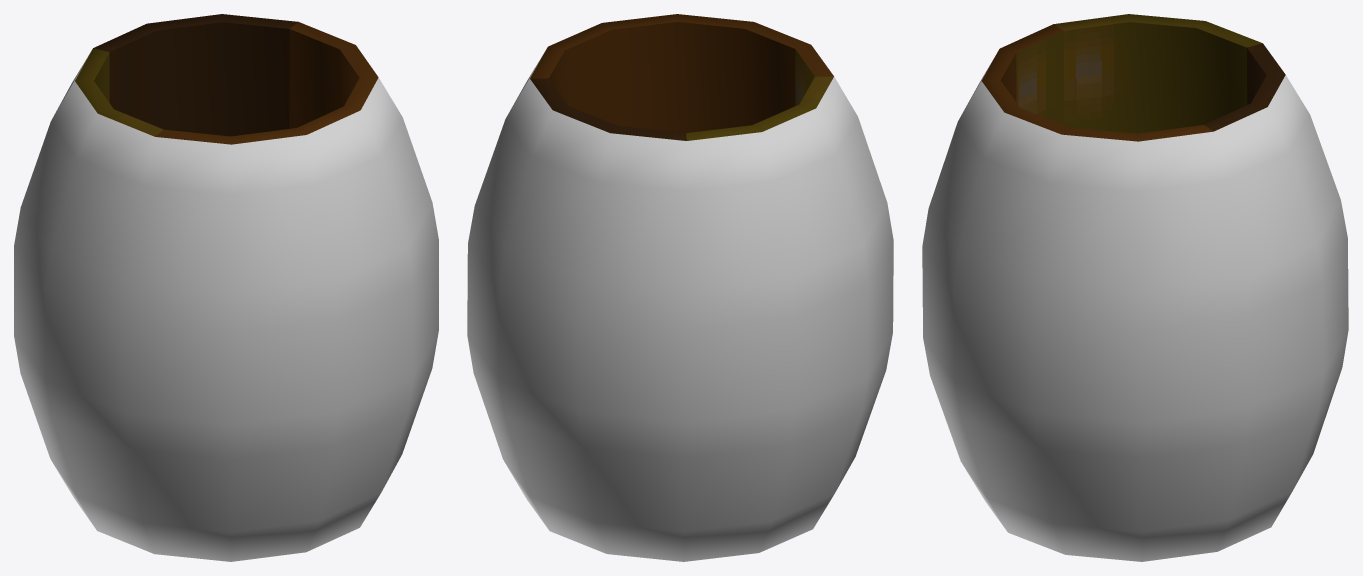
3 views of the same model, side by side, from view 1: azimuth 30°, elevation 25°; view 2: azimuth 150°, elevation 25°; view 3: azimuth 270°, elevation 25° (orthographic).
Visible parts, largest first — view 1: mesh00142, mesh00162, mesh00132, mesh0011, mesh00152; view 2: mesh00142, mesh00162, mesh00132, mesh0011, mesh00152; view 3: mesh00142, mesh0011, mesh00162, mesh00152, mesh00132.
Part boxes in pixels (box(x1,y1,x2,y2)): mesh00142: box(126, 117, 438, 532); mesh00162: box(53, 52, 438, 561); mesh00132: box(75, 14, 378, 144); mesh0011: box(14, 122, 143, 522); mesh00152: box(14, 81, 154, 553); mesh00142: box(467, 119, 792, 531); mesh00162: box(467, 79, 792, 561); mesh00132: box(530, 14, 833, 140); mesh0011: box(772, 117, 893, 520); mesh00152: box(508, 50, 893, 552); mesh00142: box(922, 115, 1348, 523); mesh0011: box(1034, 180, 1247, 531); mesh00162: box(922, 55, 1348, 554); mesh00152: box(1034, 131, 1247, 561); mesh00132: box(981, 14, 1285, 141).
Size of the model in its own units: 1439 by 1574 by 1441.
